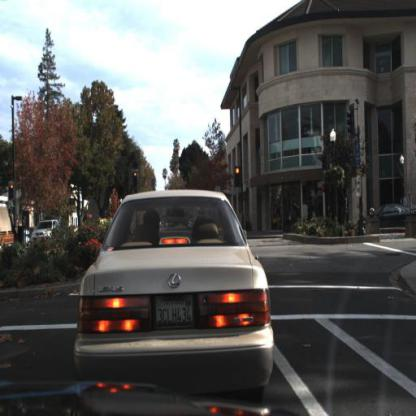car: (85, 188, 264, 384), (366, 199, 416, 232), (29, 217, 62, 250), (30, 218, 61, 244)
pedestrian: (399, 191, 410, 212), (13, 219, 20, 248), (401, 192, 409, 216)
trafficLight-Red: (233, 165, 242, 191), (8, 181, 16, 200), (131, 171, 138, 189)
